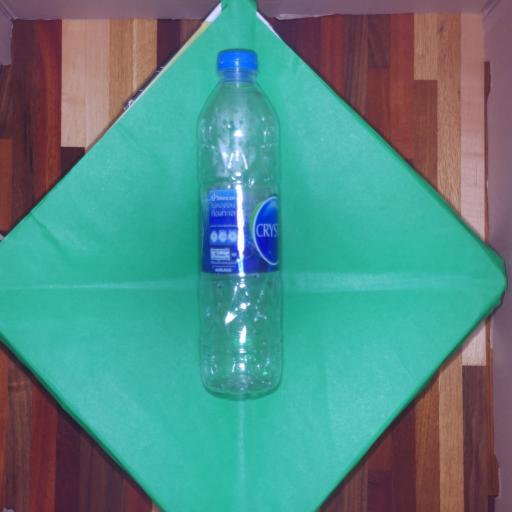bottle: (188, 40, 288, 404)
